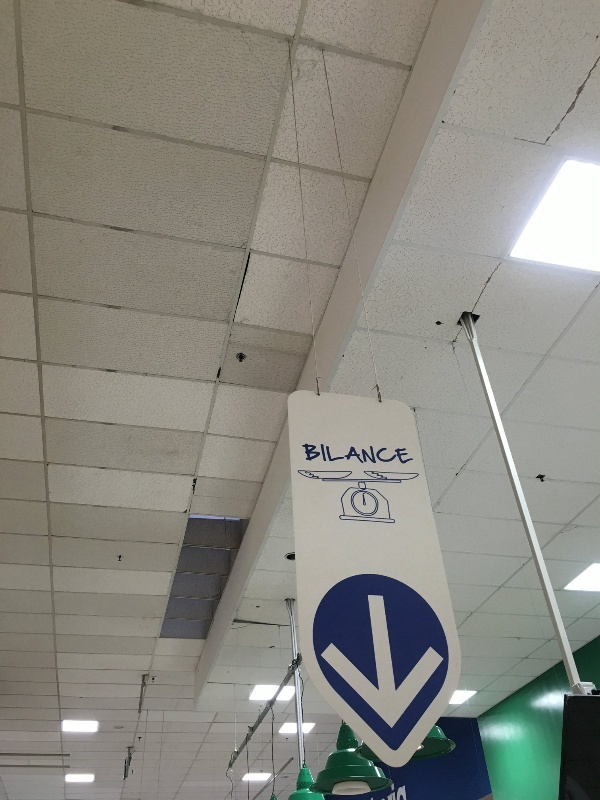text: (305, 441, 320, 465), (321, 441, 336, 465), (337, 441, 352, 465), (353, 441, 368, 465), (369, 441, 384, 465), (385, 441, 400, 465), (401, 441, 416, 465), (385, 778, 400, 800), (401, 778, 407, 800), (380, 778, 384, 800), (301, 441, 304, 465), (417, 441, 418, 465)
